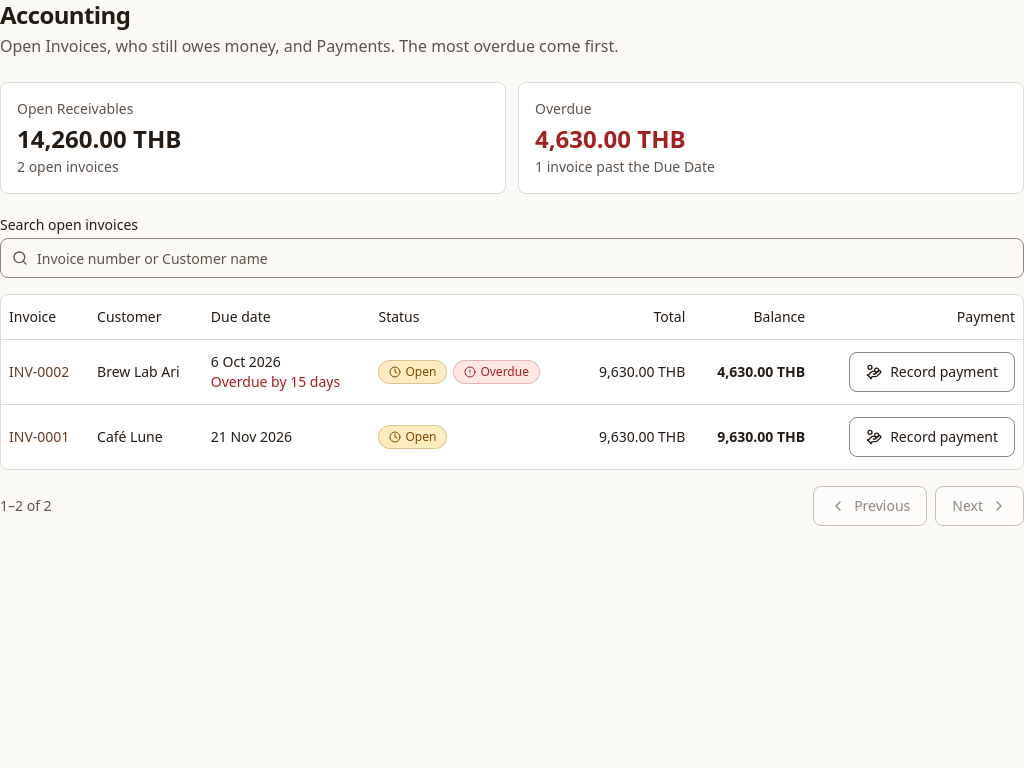
Test: Record payment (US-4) › opens a dialog whose amount defaults to the Balance, today (Bangkok), transfer and no note
Click the button with aria-label "Record payment for INV-0001".
click(932, 436)  # box x1=849 y1=416 x2=1015 y2=456
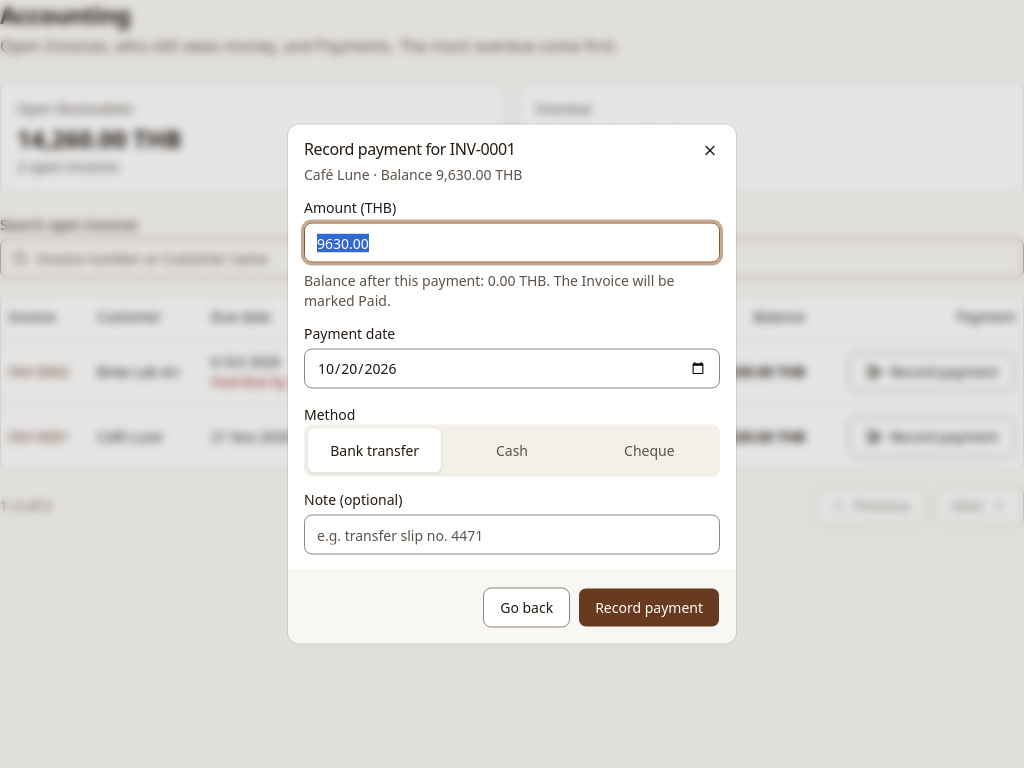
expect the heading "Record payment for INV-0001" is shown: met, box x1=304 y1=138 x2=516 y2=160
expect the dialog shows "Café Lune": met, box x1=304 y1=164 x2=370 y2=184
expect the dialog shows "9,630.00 THB": met, box x1=436 y1=164 x2=522 y2=184
